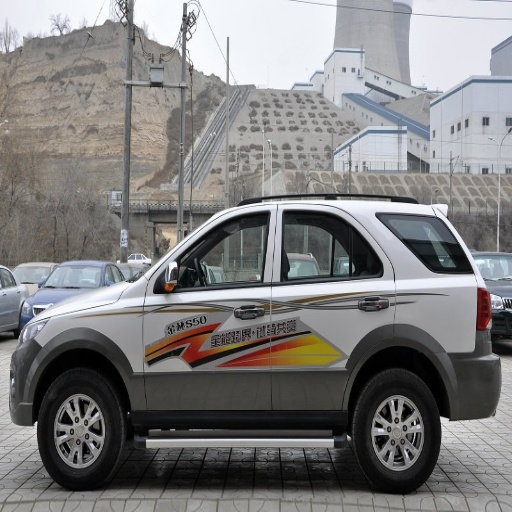back_glass: (378, 211, 467, 273)
back_left_door: (271, 206, 394, 415)
front_left_door: (143, 207, 275, 413)
